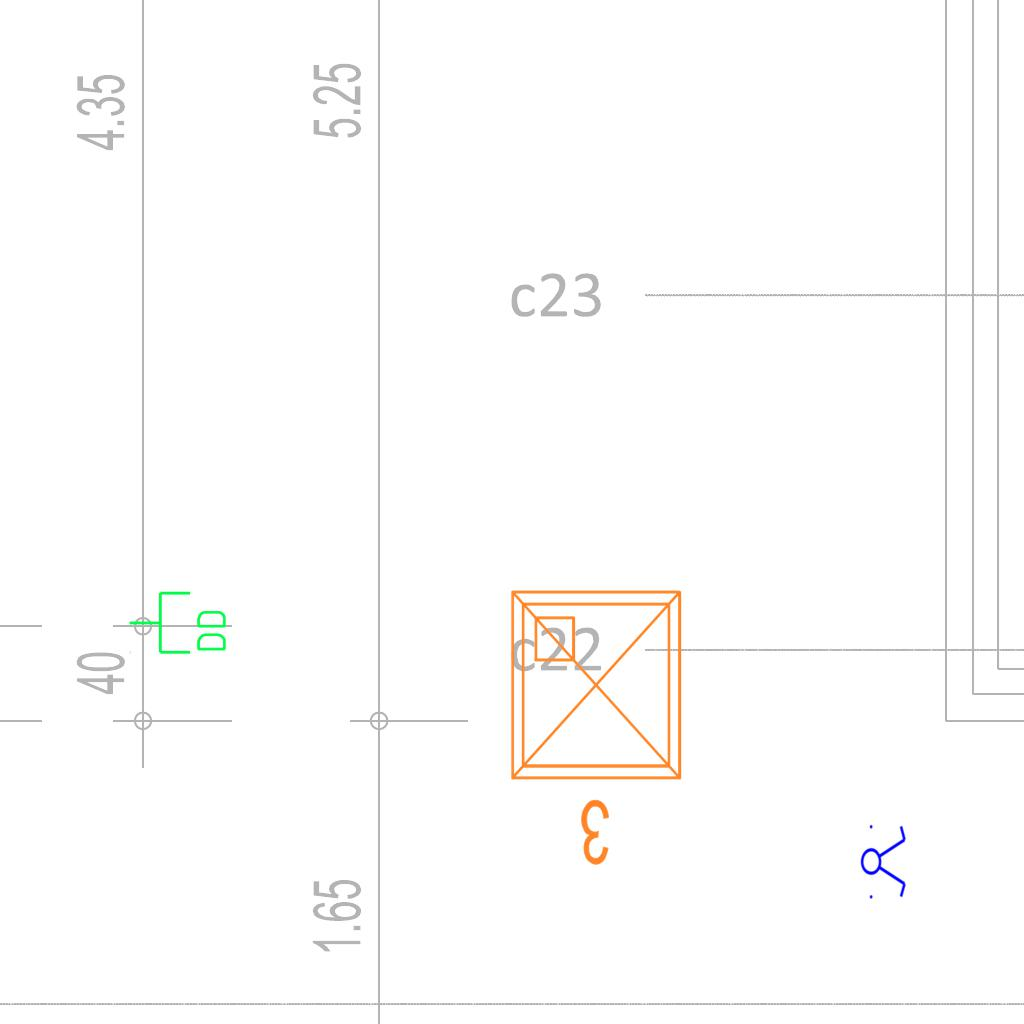Datenanschluss_zweifach: (127, 589, 230, 658)
Einbaudownlights_LED_Konferenzraeume: (496, 576, 704, 876)
Serienschalter: (860, 819, 908, 903)
